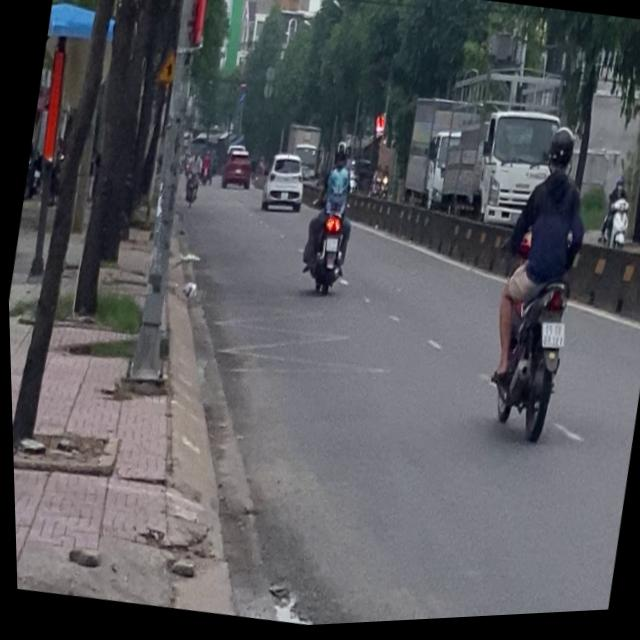helmet: (543, 128, 578, 182)
licenseplate: (467, 120, 607, 454)
nohelmet: (537, 323, 564, 352)
